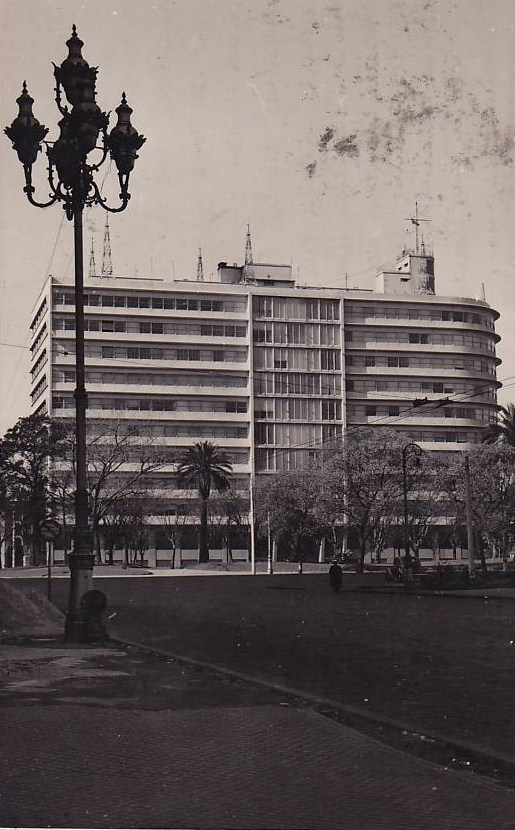fachada: (12, 248, 506, 564)
poste: (8, 24, 144, 632), (388, 434, 436, 576)
